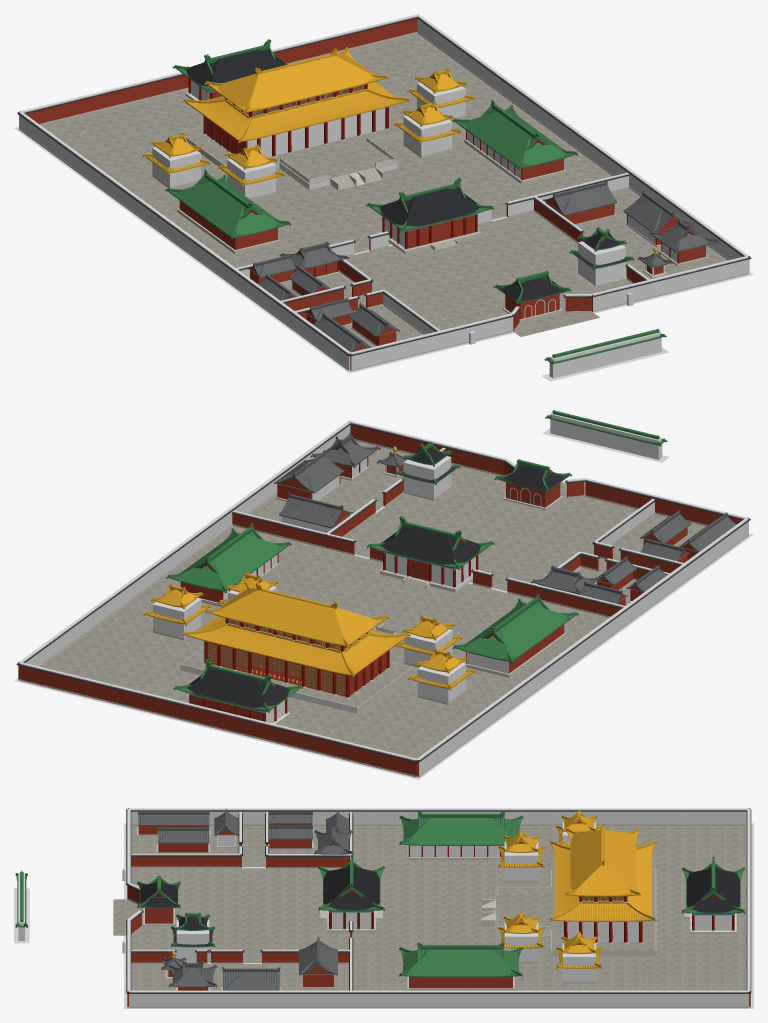
Rendered from lidaidiwangmiao.glb.
3 views of the same model, one above another, from view 1: azimuth 30°, elevation 25°; view 2: azimuth 150°, elevation 25°; view 3: azimuth 270°, elevation 25° (orthographic). The views are drawn at different scales.
Visible parts, largest first — view 1: Massing, Temple, COL_h2, COL_h4, COL_h1, COL_h5, COL_b32, COL_b0, FOOTPRINT_precinct, COL_b10, COL_b34, COL_b37 (+9 smaller); view 2: Massing, Temple, COL_h2, COL_h4, COL_b0, FOOTPRINT_precinct, COL_b10, COL_b37, COL_h3, COL_b36, COL_b35, StelePavilion.3 (+4 smaller); view 3: Massing, Temple, COL_h4, COL_h2, FOOTPRINT_precinct, COL_b32, COL_b39, COL_b35, COL_b36, COL_b10, StelePavilion.1, StelePavilion.2 (+7 smaller).
Part boxes in pixels (<box>): Massing: <box>41,33,727,351</box>; Temple: <box>17,14,751,371</box>; COL_h2: <box>19,111,351,370</box>; COL_h4: <box>417,14,749,273</box>; COL_h1: <box>350,313,513,369</box>; COL_h5: <box>592,256,748,310</box>; COL_b32: <box>246,108,385,157</box>; COL_b0: <box>549,331,661,378</box>; FOOTPRINT_precinct: <box>14,34,753,373</box>; COL_b10: <box>578,241,625,285</box>; COL_b34: <box>403,115,452,155</box>; COL_b37: <box>152,147,200,187</box>; Massing: <box>18,424,742,777</box>; Temple: <box>16,410,750,777</box>; COL_h2: <box>416,518,748,775</box>; COL_h4: <box>19,421,350,666</box>; COL_b0: <box>550,412,662,459</box>; FOOTPRINT_precinct: <box>14,499,753,779</box>; COL_b10: <box>403,456,451,498</box>; COL_b37: <box>417,662,466,702</box>; COL_h3: <box>19,662,416,760</box>; COL_b36: <box>153,598,201,638</box>; COL_b35: <box>404,629,452,666</box>; StelePavilion.3: <box>408,648,475,704</box>; Massing: <box>113,814,746,990</box>; Temple: <box>15,808,751,1008</box>; COL_h4: <box>129,990,748,1006</box>; COL_h2: <box>129,808,748,824</box>; FOOTPRINT_precinct: <box>124,823,753,1008</box>; COL_b32: <box>566,921,640,942</box>; COL_b39: <box>410,845,504,856</box>; COL_b35: <box>504,841,538,880</box>; COL_b36: <box>562,942,595,981</box>; COL_b10: <box>176,920,209,962</box>; StelePavilion.1: <box>498,830,544,882</box>; StelePavilion.2: <box>556,931,602,983</box>.
Size of the model in its own units: 123 by 23.15 by 207.
Materials: 18 (9 with a texture image).
